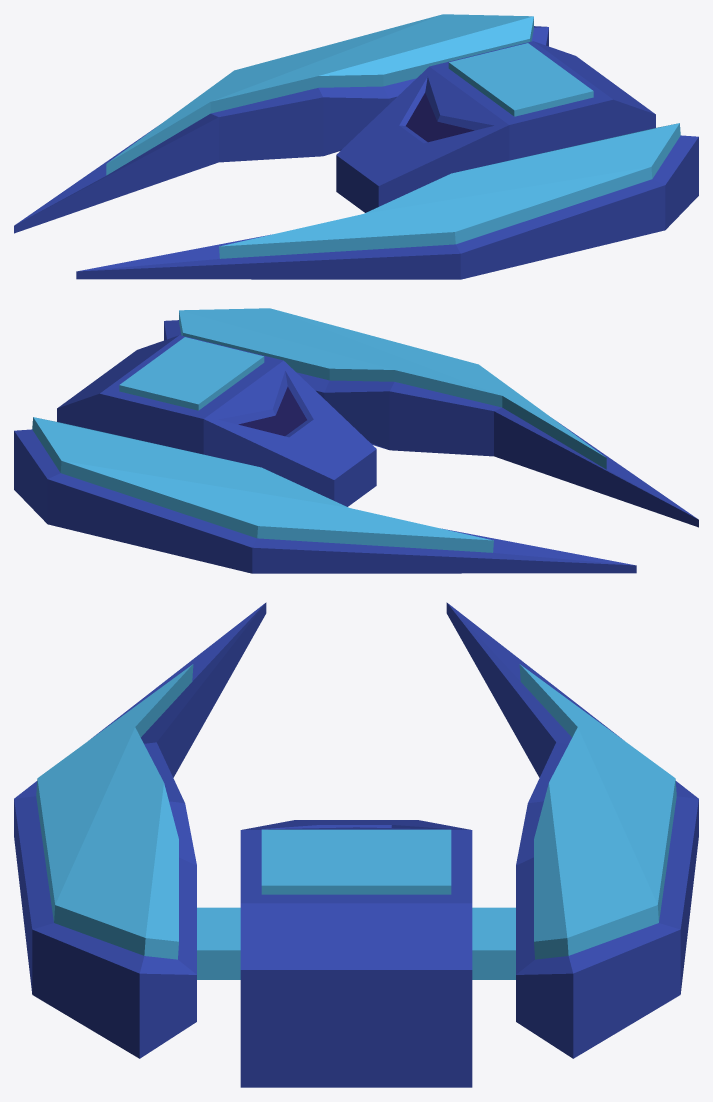
Rendered from Hunter.fbx.
3 renders of one model, top to bottom at view 1: azimuth 30°, elevation 25°; view 2: azimuth 150°, elevation 25°; view 3: azimuth 270°, elevation 25°, orthographic. The views are drawn at different scales.
Visible parts, largest first — view 1: s1; view 2: s1; view 3: s1.
Part boxes in pixels (bbox=[...]): s1: bbox=[14, 14, 698, 279]; s1: bbox=[14, 308, 698, 573]; s1: bbox=[14, 602, 698, 1087].
Size of the model in its own units: 323 by 60.28 by 229.
